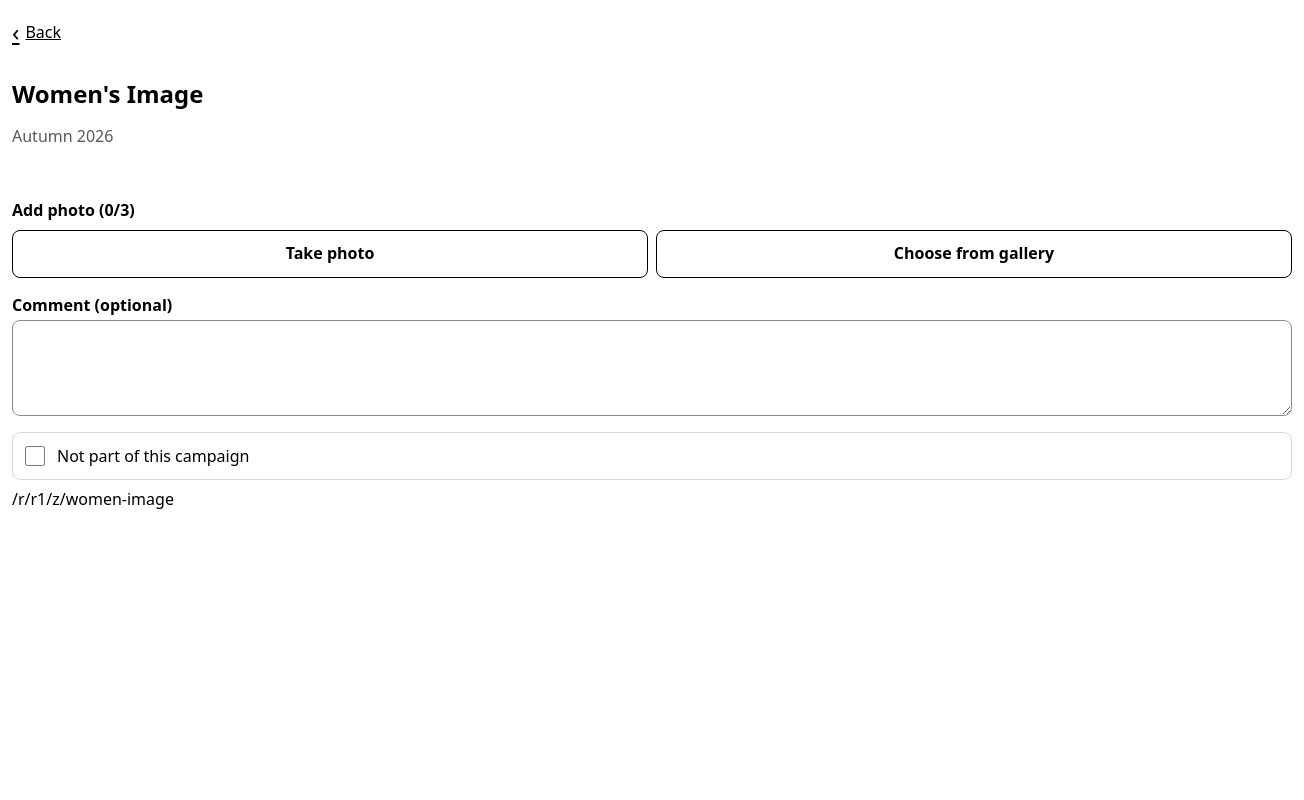
Test case: DraftZonePage: comment auto-save › a failed save toasts the generic error, keeps the text and Try again saves it
Type "keep me" into the text box labelled "Comment (optional)" at x=652, y=368, box [12,320,1292,416]
Wait 800 ms
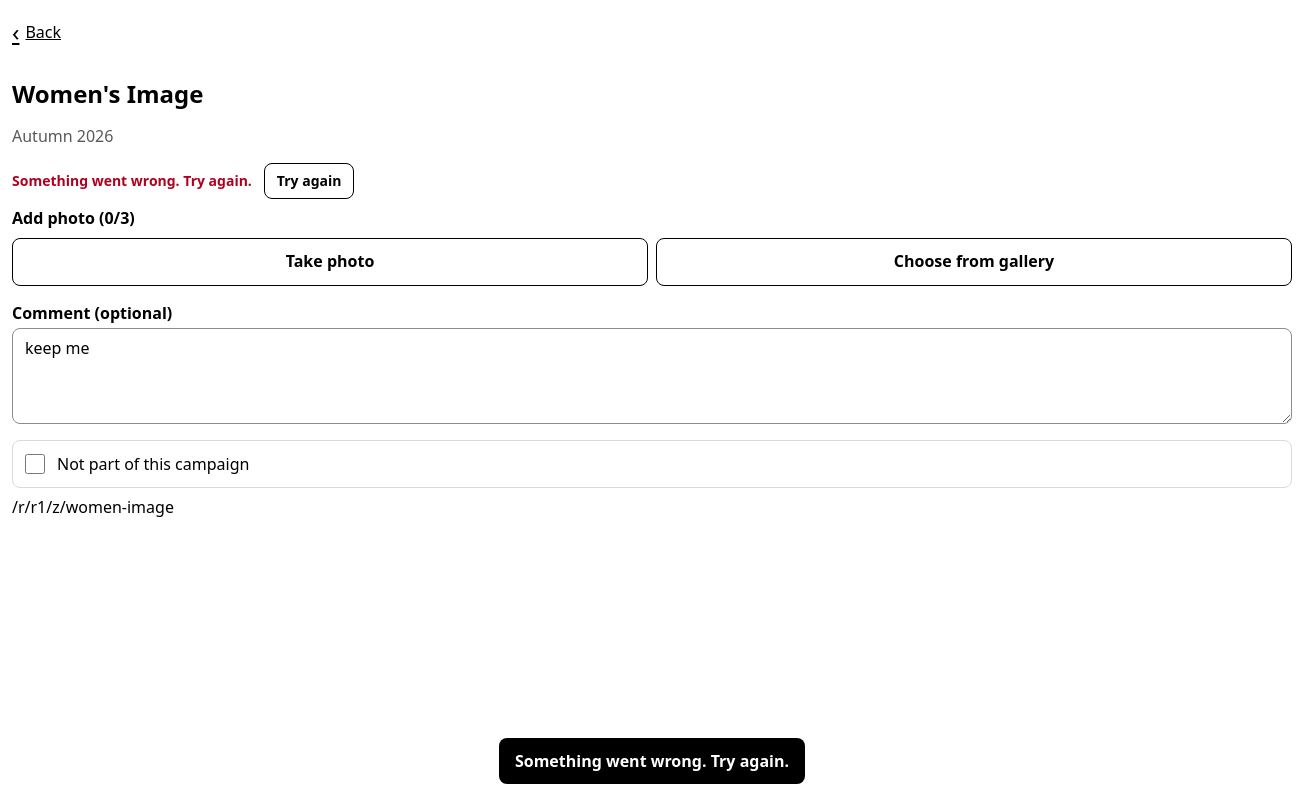
Expected: the text "Saved" is not shown
Now the 1st text "Something went wrong. Try again." is shown, box [12,171,252,191]
Click the button "Try again" at x=309, y=181, box [264,163,354,199]
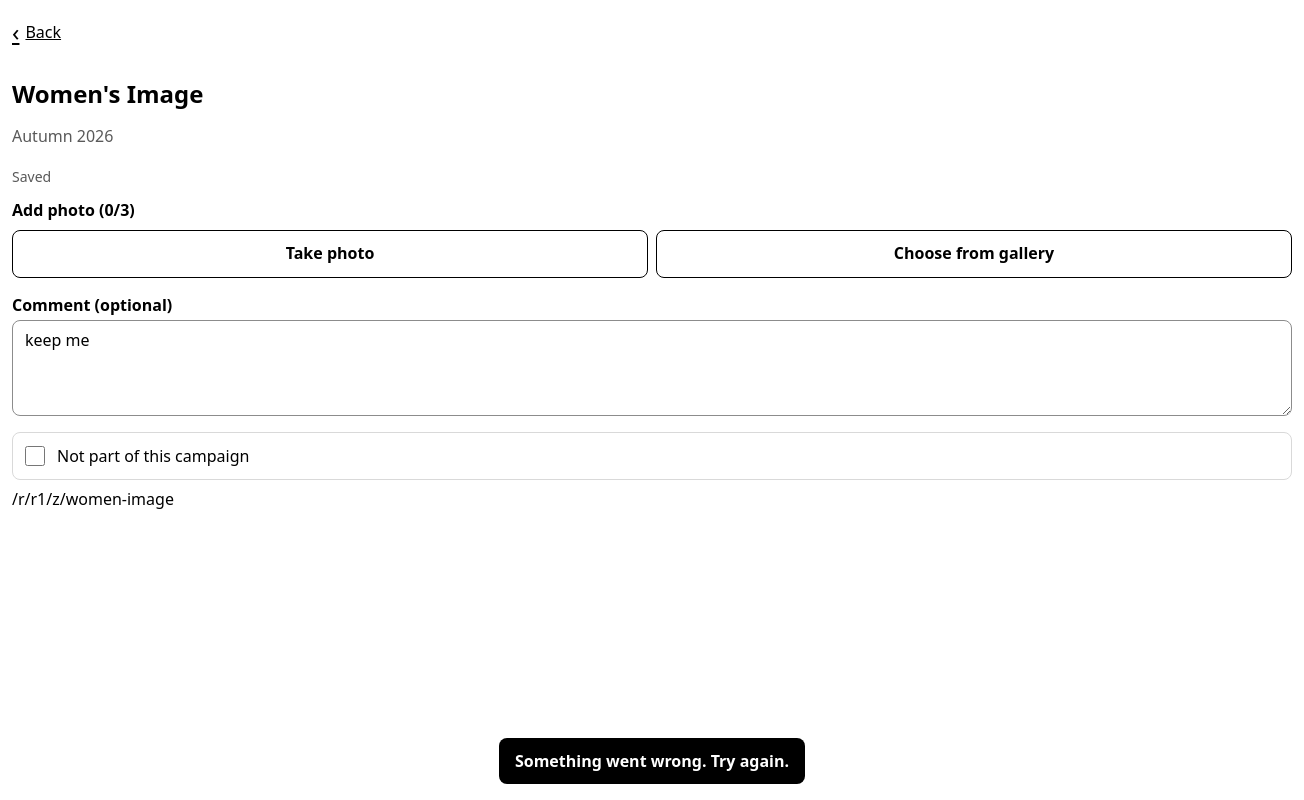
Now the text "Saved" is shown, box [12,167,51,186]
